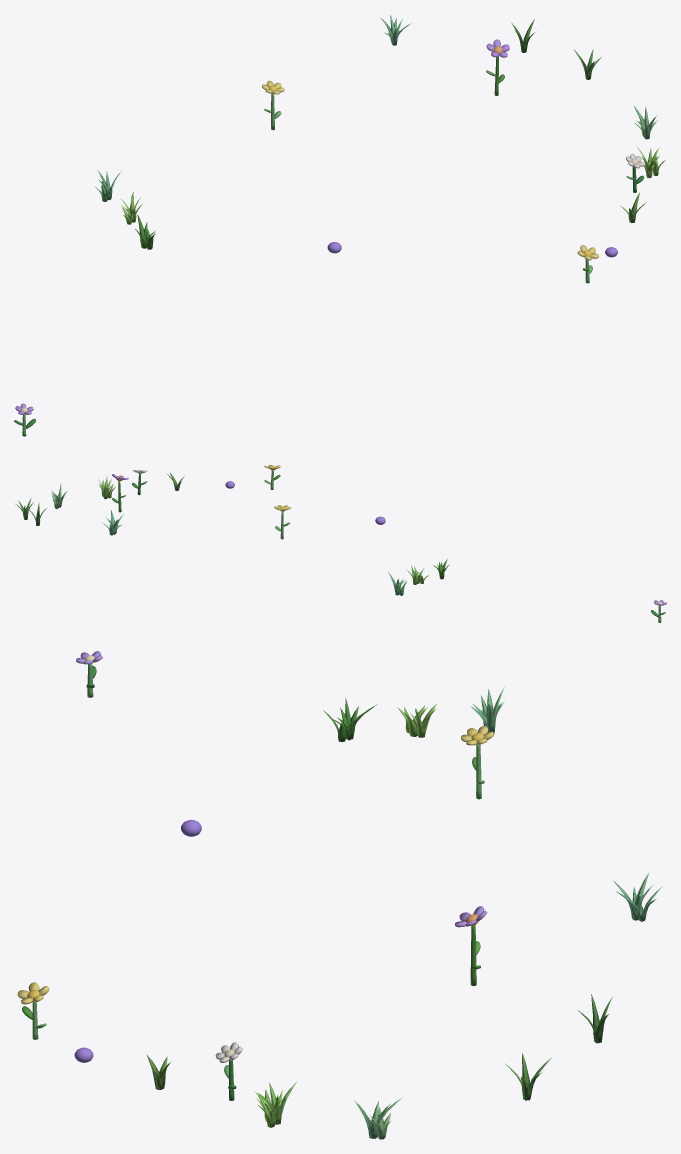
Rendered from W3_FloraRing_11_7.fbx.
The picture shows the model from 3 angles, top to bottom: view 1: azimuth 30°, elevation 25°; view 2: azimuth 150°, elevation 25°; view 3: azimuth 270°, elevation 25°; orthographic projection. The views are drawn at different scales.
Visible parts, largest first — view 1: W3_FloraRing_11_7; view 2: W3_FloraRing_11_7; view 3: W3_FloraRing_11_7.
Boxes of the visible parts, x1,y1,x2,y2 form: W3_FloraRing_11_7: [14, 15, 666, 436]; W3_FloraRing_11_7: [15, 465, 666, 622]; W3_FloraRing_11_7: [17, 651, 662, 1139].
Bounding box in the file's own units: 3.55 × 0.7449 × 1.82.
